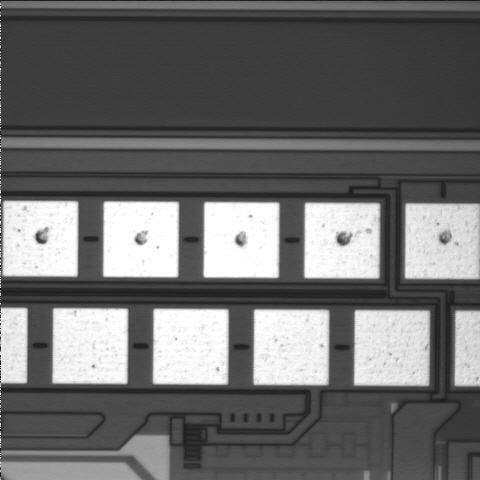pad: (103, 201, 179, 277), (203, 202, 279, 278), (52, 308, 128, 384), (153, 309, 229, 385), (354, 310, 430, 386), (3, 201, 78, 277), (304, 203, 380, 278), (253, 310, 329, 385)
